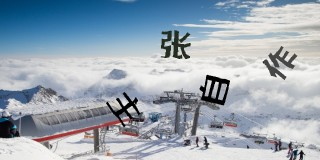主: (105, 91, 141, 127)
作: (262, 46, 297, 80)
张: (158, 30, 193, 59)
自: (199, 73, 231, 106)
